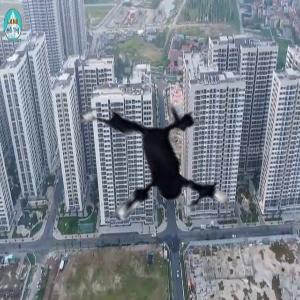drone: (51, 73, 249, 271)
